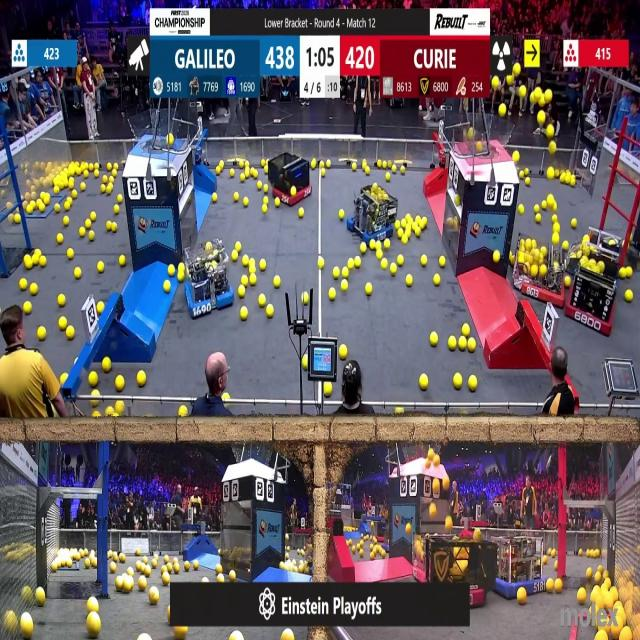ball_airborne: (432, 479, 439, 494), (537, 111, 545, 124), (544, 91, 551, 105), (444, 478, 451, 492), (429, 503, 436, 517), (546, 126, 553, 139), (499, 105, 506, 117), (515, 64, 522, 76), (492, 76, 499, 88), (553, 223, 560, 235), (553, 234, 560, 246), (546, 168, 553, 180), (550, 200, 557, 212), (446, 518, 453, 530), (474, 142, 482, 152), (550, 141, 556, 154), (547, 195, 554, 206), (506, 74, 513, 84), (520, 88, 526, 99), (467, 129, 473, 139), (433, 456, 439, 466), (514, 151, 520, 161), (530, 94, 536, 103), (169, 136, 174, 146), (539, 97, 544, 107), (535, 90, 541, 98), (428, 450, 433, 459), (426, 461, 429, 468)
ball_ground: (89, 615, 102, 638), (22, 616, 34, 639), (174, 626, 187, 640), (36, 589, 45, 607), (518, 588, 528, 604), (576, 589, 585, 605), (149, 588, 158, 604), (90, 373, 100, 387), (89, 598, 99, 612), (420, 375, 428, 391), (102, 357, 111, 371), (138, 372, 146, 387), (429, 333, 437, 348), (323, 382, 331, 397), (282, 630, 294, 640), (454, 375, 462, 389), (555, 580, 563, 594), (450, 338, 458, 352), (468, 377, 476, 391), (115, 377, 123, 391), (545, 580, 553, 594), (115, 403, 124, 415), (122, 581, 131, 593), (341, 345, 348, 360), (459, 338, 467, 351), (60, 318, 68, 330), (626, 290, 634, 302), (178, 407, 186, 419), (467, 340, 475, 352), (139, 576, 147, 588), (38, 326, 45, 339), (26, 258, 33, 271), (30, 283, 38, 294), (18, 279, 26, 290), (59, 294, 66, 306), (25, 303, 32, 315), (258, 294, 265, 306), (241, 308, 248, 320), (164, 572, 171, 584), (67, 326, 74, 338), (303, 292, 310, 304), (364, 283, 371, 295), (165, 280, 172, 292), (328, 288, 335, 300), (302, 356, 309, 368), (493, 251, 500, 263), (420, 255, 428, 265), (106, 408, 114, 418), (268, 306, 274, 319), (462, 323, 468, 336), (116, 579, 122, 592), (98, 263, 105, 274), (259, 261, 266, 272), (433, 275, 440, 286), (98, 303, 105, 314), (390, 265, 397, 276), (239, 286, 246, 297), (230, 570, 237, 581), (173, 563, 180, 574), (68, 248, 74, 260), (75, 268, 81, 280), (355, 256, 361, 268), (169, 266, 175, 278), (407, 275, 413, 287), (380, 262, 388, 271), (342, 280, 348, 292), (335, 268, 341, 280), (342, 270, 349, 280), (183, 562, 190, 572), (595, 572, 602, 582), (564, 277, 571, 287), (421, 217, 428, 227), (61, 374, 68, 384), (41, 192, 48, 202), (92, 558, 99, 568), (275, 277, 281, 288), (118, 255, 124, 266), (250, 275, 256, 286), (58, 234, 64, 245), (348, 257, 354, 268), (360, 243, 366, 254), (243, 255, 249, 266), (318, 257, 324, 268), (110, 562, 116, 573), (92, 398, 100, 406), (91, 212, 98, 221), (507, 253, 514, 262), (40, 256, 46, 266), (384, 240, 390, 250), (340, 210, 346, 220), (571, 218, 577, 228), (90, 232, 96, 242), (233, 251, 239, 261), (178, 273, 184, 283), (627, 268, 633, 278), (369, 241, 375, 251), (519, 205, 525, 215), (242, 276, 248, 286), (192, 560, 198, 570), (397, 255, 403, 265), (377, 250, 383, 260), (416, 229, 422, 239), (65, 201, 71, 211), (621, 269, 627, 279), (249, 257, 255, 267), (145, 566, 151, 576), (396, 230, 402, 240), (407, 524, 413, 534), (68, 178, 74, 188), (541, 201, 547, 211), (217, 574, 224, 582), (178, 265, 185, 273), (222, 393, 229, 401), (118, 555, 125, 563), (94, 412, 101, 420), (596, 633, 604, 640), (395, 410, 402, 418), (441, 256, 446, 267), (236, 242, 242, 251), (212, 192, 218, 201), (79, 229, 85, 238), (534, 214, 540, 223), (107, 184, 113, 193), (106, 221, 112, 230), (588, 568, 594, 577), (128, 567, 134, 576), (256, 181, 262, 190), (216, 564, 222, 573), (56, 204, 62, 213), (251, 169, 257, 178), (13, 214, 19, 223), (95, 170, 101, 179), (39, 204, 45, 213), (84, 560, 90, 569), (407, 214, 413, 223), (298, 208, 303, 218), (244, 198, 249, 208), (235, 191, 240, 201), (416, 216, 421, 226), (137, 562, 142, 572), (139, 635, 149, 640), (93, 389, 100, 396), (34, 249, 41, 256), (275, 200, 281, 208), (100, 184, 106, 192), (524, 177, 530, 185), (320, 169, 326, 177), (231, 170, 237, 178), (563, 242, 569, 250), (151, 560, 157, 568), (87, 220, 93, 228), (376, 242, 382, 250), (395, 220, 401, 228), (311, 162, 317, 170), (218, 162, 224, 170), (28, 206, 34, 214), (325, 162, 331, 170), (114, 205, 119, 214), (64, 216, 69, 225), (386, 173, 391, 182), (72, 189, 77, 198), (264, 205, 269, 214), (107, 164, 112, 173), (570, 177, 575, 186), (203, 576, 209, 583), (264, 198, 270, 205), (112, 164, 118, 171), (80, 182, 85, 190), (119, 196, 124, 204), (553, 215, 558, 223), (241, 174, 246, 182), (534, 205, 539, 213), (520, 171, 525, 179), (369, 554, 374, 562), (560, 175, 565, 183), (378, 162, 383, 170), (319, 162, 324, 170), (112, 222, 116, 231), (83, 171, 88, 178), (364, 168, 369, 175), (56, 186, 61, 193), (542, 557, 547, 564), (90, 165, 95, 172), (265, 184, 269, 192), (555, 562, 559, 570), (104, 175, 108, 183), (280, 562, 284, 570), (400, 168, 404, 175), (216, 168, 220, 175), (392, 167, 396, 174), (402, 237, 406, 244), (352, 165, 356, 172), (266, 168, 270, 175), (578, 550, 582, 557), (112, 170, 115, 178), (144, 558, 148, 564), (218, 550, 221, 557)
goal: (458, 116, 516, 158), (129, 116, 186, 152)
robot_blue: (185, 243, 234, 317), (492, 535, 546, 598), (349, 182, 397, 242)
robot_red: (425, 528, 492, 608), (570, 242, 618, 334), (514, 239, 569, 307), (268, 152, 310, 206)
